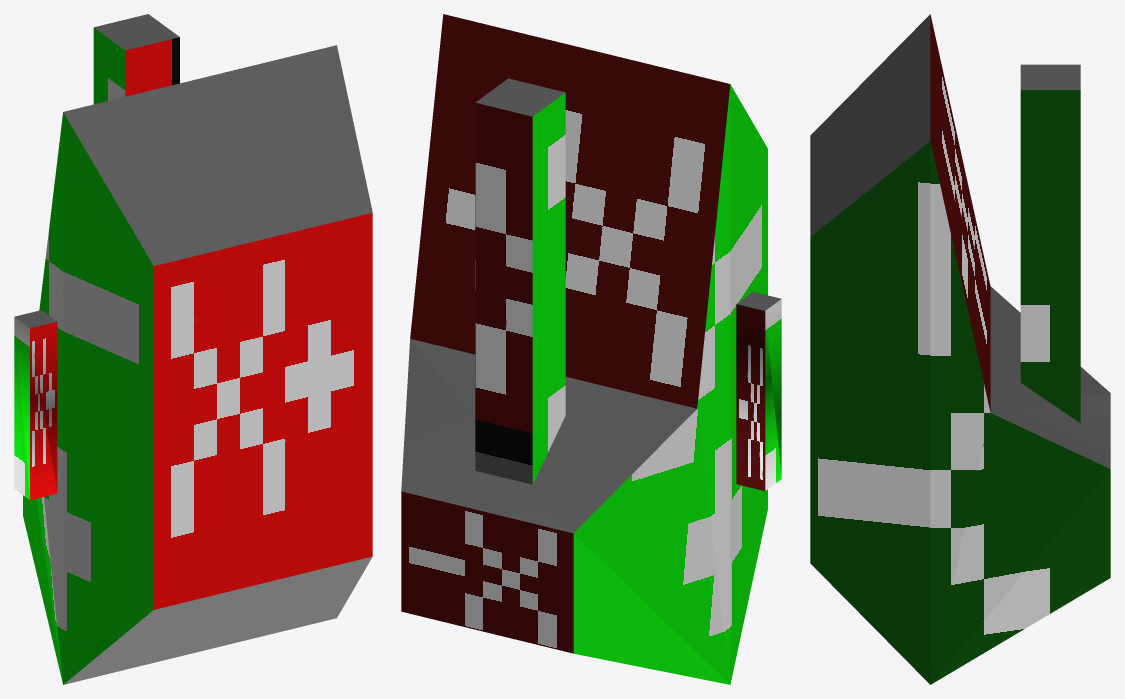
The model's file is heavytank2+y-z.obj.
The picture shows the model from 3 angles, left to right: view 1: azimuth 30°, elevation 25°; view 2: azimuth 150°, elevation 25°; view 3: azimuth 270°, elevation 25°; orthographic projection. The views are drawn at different scales.
Visible parts, largest first — view 1: Cube; view 2: Cube; view 3: Cube.
Boxes of the visible parts, x1,y1,x2,y2 form: Cube: (14,14,372,684); Cube: (401,14,781,684); Cube: (810,14,1110,684).
Bounding box in the file's own units: 1.15 × 2 × 1.
